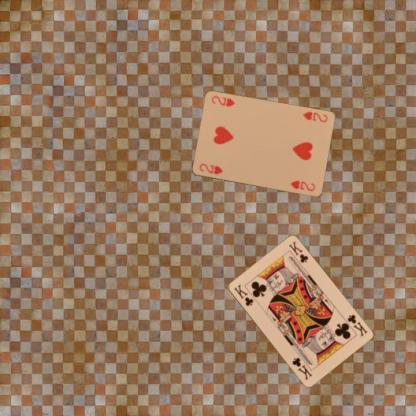2h: (196, 161, 224, 176), (300, 109, 328, 124)
Kc: (344, 312, 369, 338), (232, 282, 254, 308)
